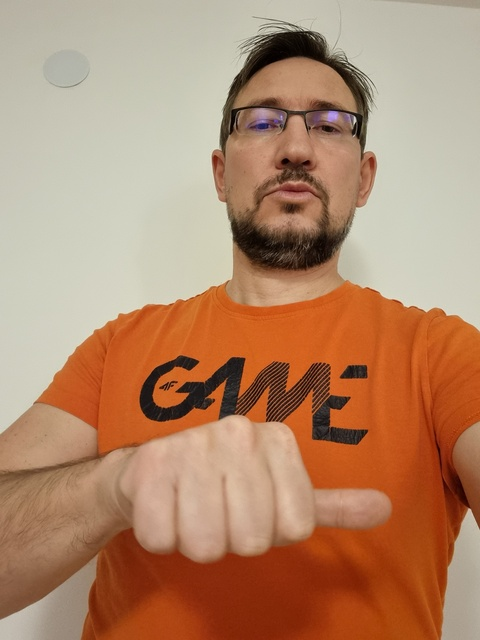GestBack: (133, 415, 391, 563)
